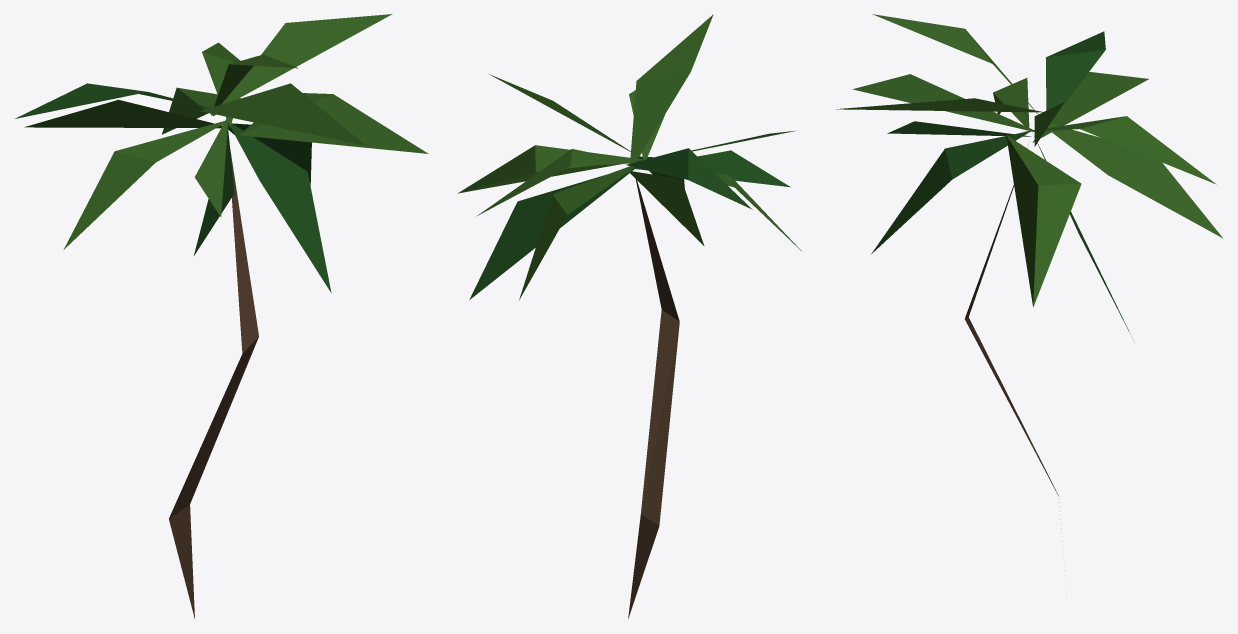
File: palm_a_lod2.glb
The picture shows the model from 3 angles, left to right: view 1: azimuth 30°, elevation 25°; view 2: azimuth 150°, elevation 25°; view 3: azimuth 270°, elevation 25°; orthographic projection. The views are drawn at different scales.
Parts seen in each view (by area): view 1: palm_a_lod2; view 2: palm_a_lod2; view 3: palm_a_lod2.
Boxes of the visible parts, <box> form: palm_a_lod2: <box>15,14,428,618</box>; palm_a_lod2: <box>457,14,801,619</box>; palm_a_lod2: <box>836,14,1222,545</box>.
Size of the model in its own units: 2.85 by 4.44 by 2.59.
